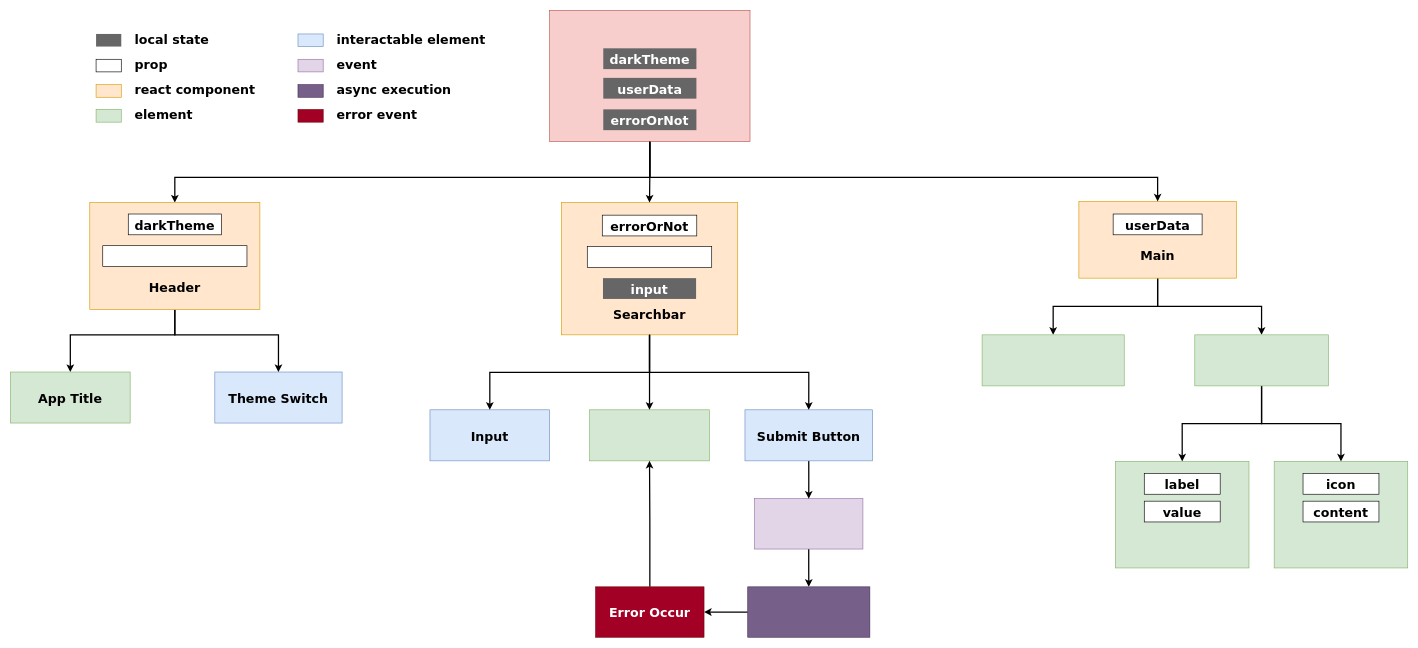
This 1418x648 diagram has some shape labels left out. Here are the shapes that lost their labels. From the top down, the box of each, then its label:
(549, 10, 750, 141): App
(102, 245, 247, 266): handleDarkTheme
(587, 246, 712, 267): handleSubmit
(981, 334, 1124, 386): Opening Message (if no userData)
(1194, 334, 1328, 386): User Information
(589, 409, 709, 461): Error Message
(754, 498, 863, 549): Click Button
(1115, 461, 1249, 568): InfoBlock
(1274, 461, 1408, 568): InfoItems
(747, 586, 870, 637): Fetching User Data
